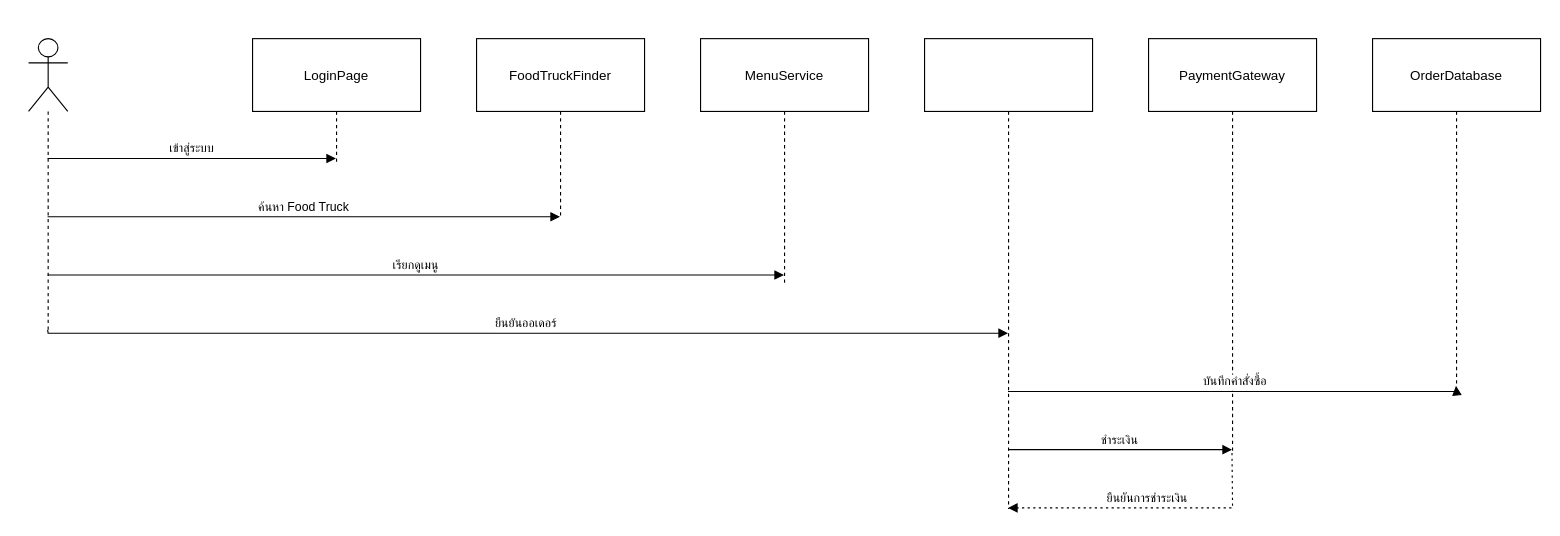
Some shapes in this 1560 by 536 pixel diagram are drawn without their labels. The shapes that lost their labels are listed below. From the top down, each one's box as (x1, y1, x2, y2) in pixels, then its label:
(27, 38, 68, 330): Customer
(923, 38, 1093, 509): OrderService
